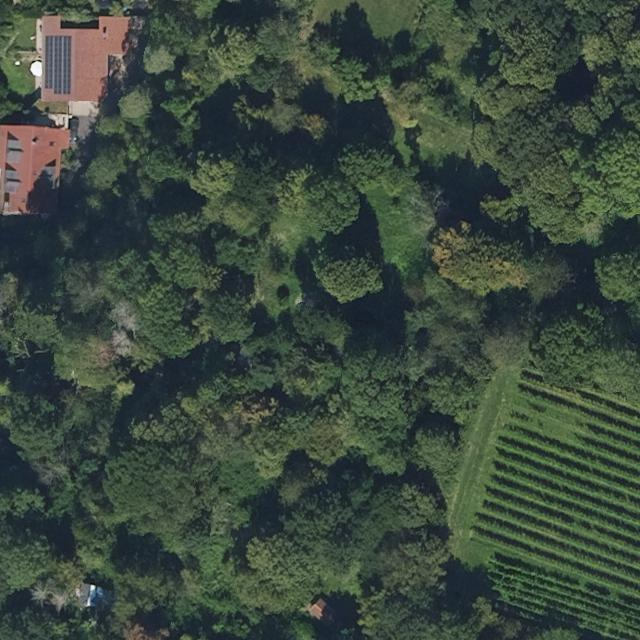PV: (39, 32, 76, 99)
